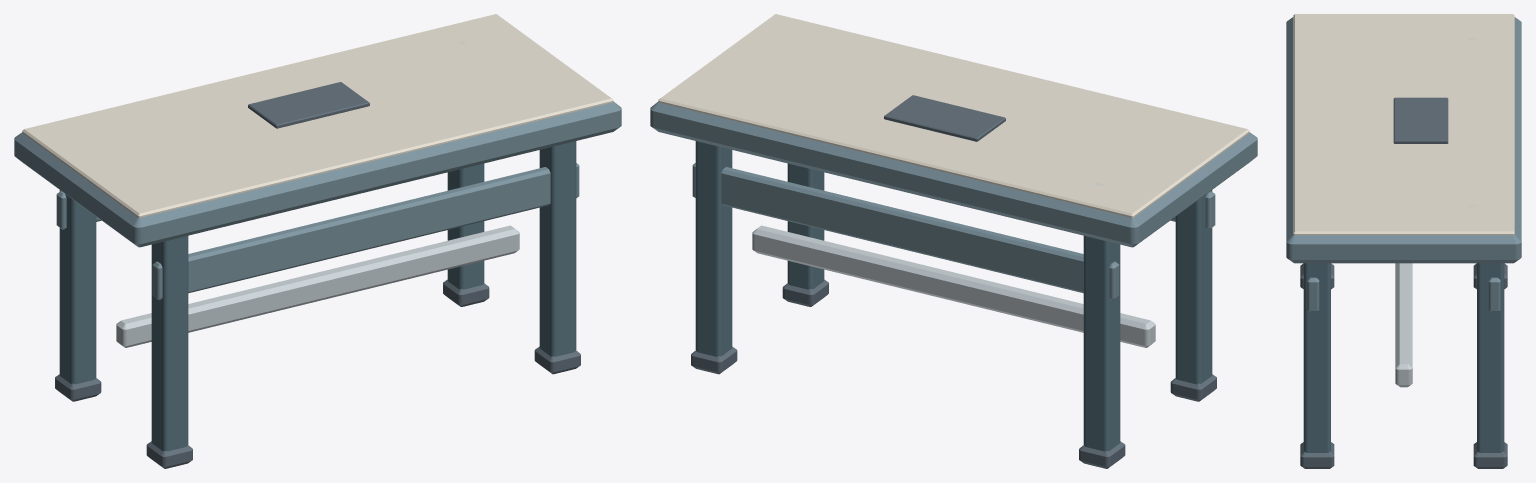
Rendered from visitation_table.glb.
3 renders of one model, left to right at view 1: azimuth 30°, elevation 25°; view 2: azimuth 150°, elevation 25°; view 3: azimuth 270°, elevation 25°, orthographic. The views are drawn at different scales.
Parts seen in each view (by area): view 1: 001_top_anti_scrape_trim, 000_durable_steel_top, 012_lower_stiffener, 010_lower_welded_crossbeam, 004_heavy_square_leg, 008_heavy_square_leg, 002_heavy_square_leg, 013_center_intercom_mount, 006_heavy_square_leg, 009_rubber_foot, 003_rubber_foot, 007_rubber_foot (+1 smaller); view 2: 001_top_anti_scrape_trim, 000_durable_steel_top, 011_lower_stiffener, 010_lower_welded_crossbeam, 002_heavy_square_leg, 006_heavy_square_leg, 004_heavy_square_leg, 013_center_intercom_mount, 008_heavy_square_leg, 007_rubber_foot, 005_rubber_foot, 009_rubber_foot (+1 smaller); view 3: 001_top_anti_scrape_trim, 000_durable_steel_top, 006_heavy_square_leg, 008_heavy_square_leg, 013_center_intercom_mount, 010_lower_welded_crossbeam, 007_rubber_foot, 009_rubber_foot, 011_lower_stiffener, 012_lower_stiffener.
Part boxes in pixels (x1,y1,x2,y2): 001_top_anti_scrape_trim: [22, 14, 613, 217]; 000_durable_steel_top: [14, 102, 621, 247]; 012_lower_stiffener: [152, 163, 579, 300]; 010_lower_welded_crossbeam: [116, 225, 519, 347]; 004_heavy_square_leg: [151, 236, 188, 451]; 008_heavy_square_leg: [539, 141, 576, 356]; 002_heavy_square_leg: [59, 190, 96, 384]; 013_center_intercom_mount: [248, 82, 369, 128]; 006_heavy_square_leg: [447, 163, 484, 289]; 009_rubber_foot: [534, 346, 580, 374]; 003_rubber_foot: [55, 374, 101, 401]; 007_rubber_foot: [443, 279, 489, 306]; 001_top_anti_scrape_trim: [658, 14, 1249, 217]; 000_durable_steel_top: [650, 102, 1257, 247]; 011_lower_stiffener: [692, 163, 1119, 300]; 010_lower_welded_crossbeam: [752, 225, 1155, 347]; 002_heavy_square_leg: [1083, 236, 1120, 451]; 006_heavy_square_leg: [695, 141, 732, 356]; 004_heavy_square_leg: [1175, 190, 1212, 384]; 013_center_intercom_mount: [884, 95, 1005, 141]; 008_heavy_square_leg: [787, 163, 824, 289]; 007_rubber_foot: [691, 346, 737, 374]; 005_rubber_foot: [1170, 374, 1216, 401]; 009_rubber_foot: [782, 279, 828, 306]; 001_top_anti_scrape_trim: [1293, 14, 1514, 235]; 000_durable_steel_top: [1286, 17, 1521, 263]; 006_heavy_square_leg: [1477, 263, 1504, 452]; 008_heavy_square_leg: [1303, 263, 1330, 452]; 013_center_intercom_mount: [1393, 97, 1448, 143]; 010_lower_welded_crossbeam: [1395, 263, 1412, 387]; 007_rubber_foot: [1473, 442, 1507, 468]; 009_rubber_foot: [1300, 442, 1334, 468]; 011_lower_stiffener: [1488, 277, 1500, 312]; 012_lower_stiffener: [1307, 277, 1319, 312].
Bounding box in the file's own units: 1.56 × 0.826 × 0.69.
